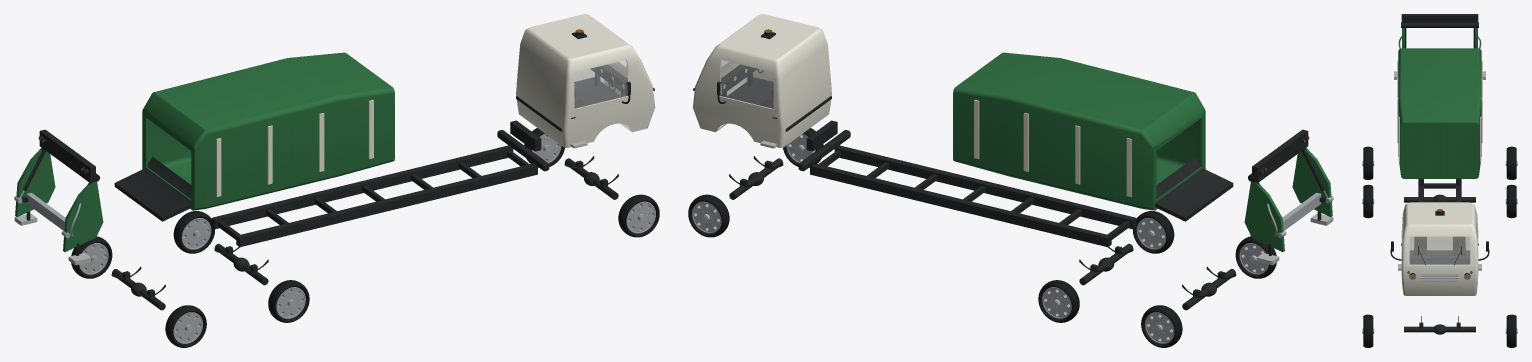
Rendered from full_truck.glb.
3 renders of one model, left to right at view 1: azimuth 30°, elevation 25°; view 2: azimuth 150°, elevation 25°; view 3: azimuth 270°, elevation 25°, orthographic. The views are drawn at different scales.
Parts seen in each view (by area): view 1: Refuse shaped hollow container with open rear throat, Sculpted hollow cab with wheel arches and window apertures, Chassis longitudinal boxed rail -1, Chassis longitudinal boxed rail 1, Finite sloping rear loading hopper floor, Cab fitted finite right side glass, Rear hopper seated side cheek -1, Rear hopper seated side cheek 1, Cab seated closed floor, Rear lamp seated mounting transom, Axle 3 wheel -1 rounded tyre carcass, Axle 1 wheel -1 rounded tyre carcass (+11 smaller); view 2: Refuse shaped hollow container with open rear throat, Sculpted hollow cab with wheel arches and window apertures, Chassis longitudinal boxed rail 1, Chassis longitudinal boxed rail -1, Finite sloping rear loading hopper floor, Cab fitted finite left side glass, Rear hopper seated side cheek 1, Rear hopper seated side cheek -1, Cab seated closed floor, Rear lamp seated mounting transom, Axle 3 wheel 1 rounded tyre carcass, Axle 1 wheel 1 rounded tyre carcass (+11 smaller); view 3: Refuse shaped hollow container with open rear throat, Sculpted hollow cab with wheel arches and window apertures, Cab fitted finite windscreen glass, Rear lamp seated mounting transom, Cab full width instrument bridge, Compactor full width upper hinge, Axle 1 through housing, Axle 1 wheel 1 rounded tyre carcass, Axle 1 wheel -1 rounded tyre carcass, Axle 2 wheel 1 rounded tyre carcass, Axle 2 wheel -1 rounded tyre carcass, Axle 3 wheel 1 rounded tyre carcass (+6 smaller).
Boxes of the visible parts, x1,y1,x2,y2 form: Refuse shaped hollow container with open rear throat: (142, 52, 394, 210); Sculpted hollow cab with wheel arches and window apertures: (516, 14, 655, 147); Chassis longitudinal boxed rail -1: (236, 163, 537, 247); Chassis longitudinal boxed rail 1: (211, 145, 513, 229); Finite sloping rear loading hopper floor: (114, 157, 192, 221); Cab fitted finite right side glass: (573, 60, 627, 108); Rear hopper seated side cheek -1: (63, 181, 103, 252); Rear hopper seated side cheek 1: (15, 147, 55, 217); Cab seated closed floor: (516, 77, 620, 131); Rear lamp seated mounting transom: (39, 129, 95, 180); Axle 3 wheel -1 rounded tyre carcass: (165, 305, 206, 347); Axle 1 wheel -1 rounded tyre carcass: (618, 194, 659, 237); Refuse shaped hollow container with open rear throat: (953, 52, 1205, 210); Sculpted hollow cab with wheel arches and window apertures: (692, 14, 831, 147); Chassis longitudinal boxed rail 1: (810, 163, 1111, 247); Chassis longitudinal boxed rail -1: (834, 145, 1136, 229); Finite sloping rear loading hopper floor: (1155, 157, 1233, 221); Cab fitted finite left side glass: (720, 60, 773, 108); Rear hopper seated side cheek 1: (1244, 181, 1284, 252); Rear hopper seated side cheek -1: (1292, 147, 1332, 217); Cab seated closed floor: (727, 77, 831, 131); Rear lamp seated mounting transom: (1252, 129, 1308, 180); Axle 3 wheel 1 rounded tyre carcass: (1141, 305, 1182, 347); Axle 1 wheel 1 rounded tyre carcass: (688, 194, 729, 237); Refuse shaped hollow container with open rear throat: (1398, 48, 1481, 178); Sculpted hollow cab with wheel arches and window apertures: (1401, 202, 1478, 295); Cab fitted finite windscreen glass: (1410, 237, 1469, 264); Rear lamp seated mounting transom: (1401, 14, 1478, 22); Cab full width instrument bridge: (1409, 255, 1470, 264); Compactor full width upper hinge: (1401, 22, 1478, 27); Axle 1 through housing: (1404, 326, 1475, 332); Axle 1 wheel 1 rounded tyre carcass: (1506, 314, 1516, 347); Axle 1 wheel -1 rounded tyre carcass: (1363, 314, 1373, 347); Axle 2 wheel 1 rounded tyre carcass: (1506, 184, 1516, 218); Axle 2 wheel -1 rounded tyre carcass: (1363, 184, 1373, 218); Axle 3 wheel 1 rounded tyre carcass: (1506, 146, 1516, 179).
Bounding box in the file's own units: 15.61 × 4.84 × 4.66.
Materials: 13 (13 with a texture image).
